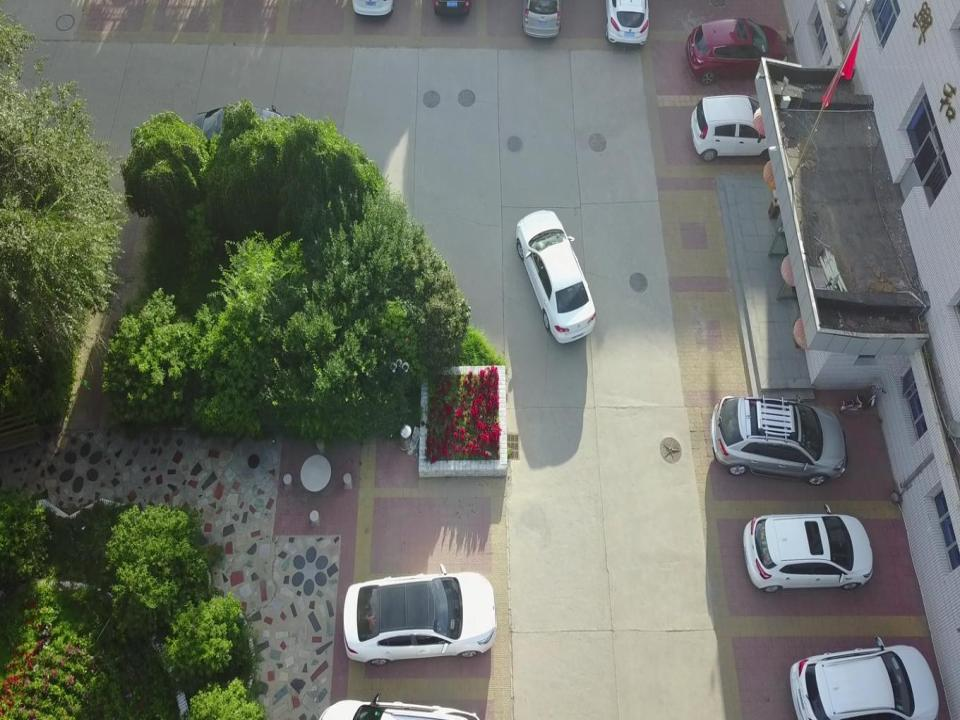car: (342, 573, 498, 664), (709, 393, 848, 486), (515, 206, 597, 346), (787, 644, 938, 720), (744, 509, 876, 592), (691, 91, 793, 159), (687, 18, 788, 80), (605, 0, 650, 46), (522, 0, 562, 38)
